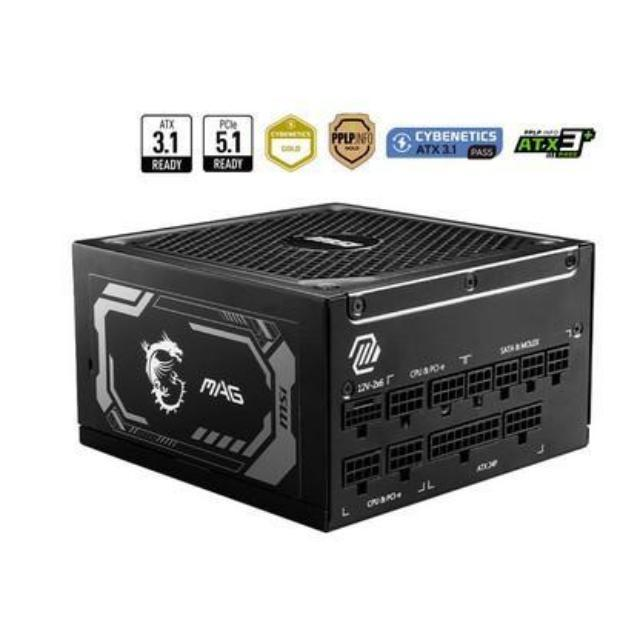PSU: (62, 185, 600, 538)
